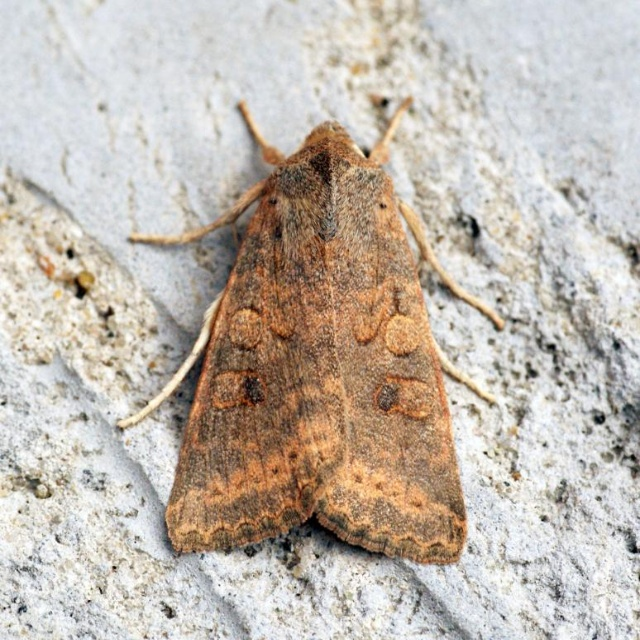Moths and butterflies: (115, 96, 514, 569)
